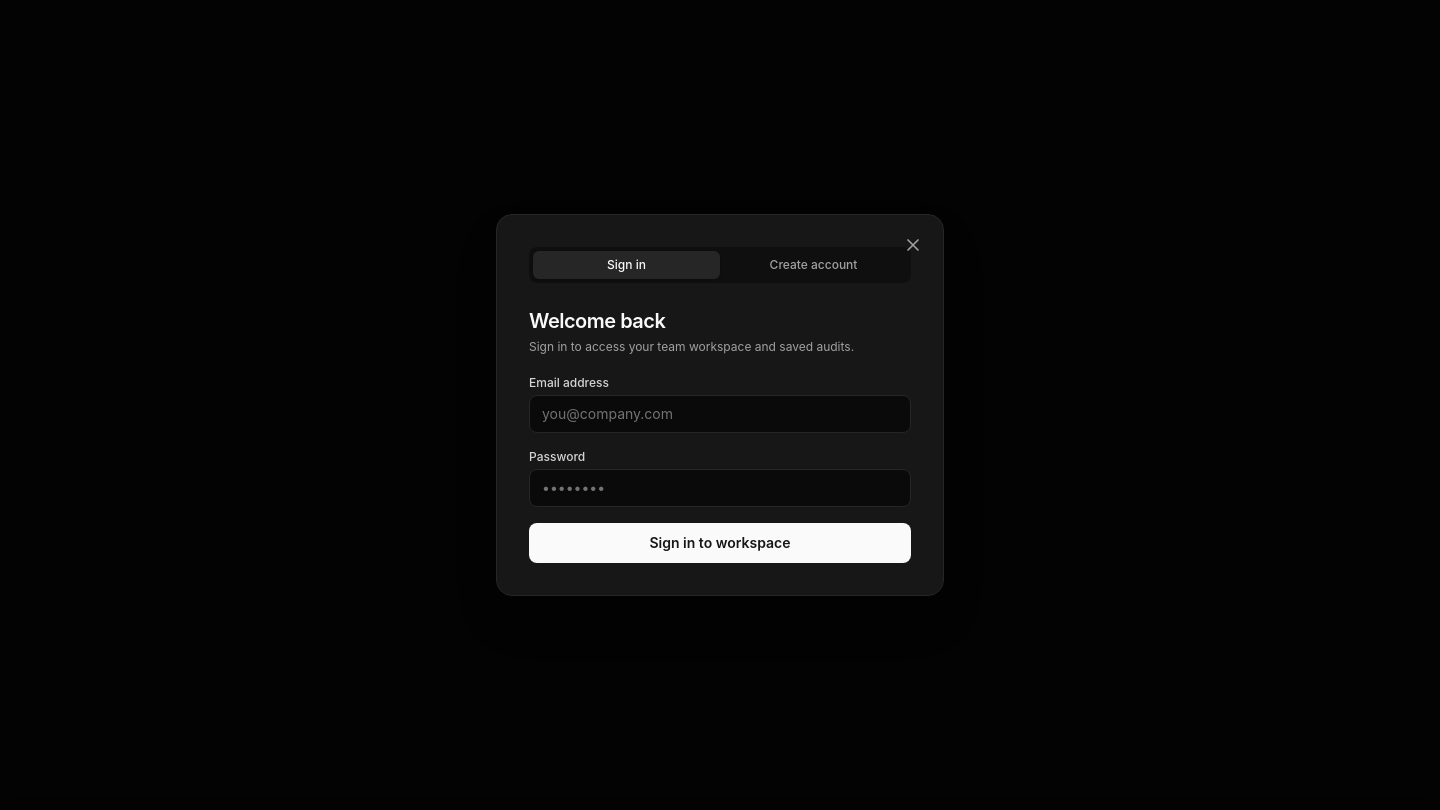
Scenario: Auth Configuration in UI › shows 'Authentication is not configured.' error when env vars are missing and user submits modal
Type "user@example.com" into the field labelled "Email address" at [720, 414], box left=529, top=395, right=911, bottom=433
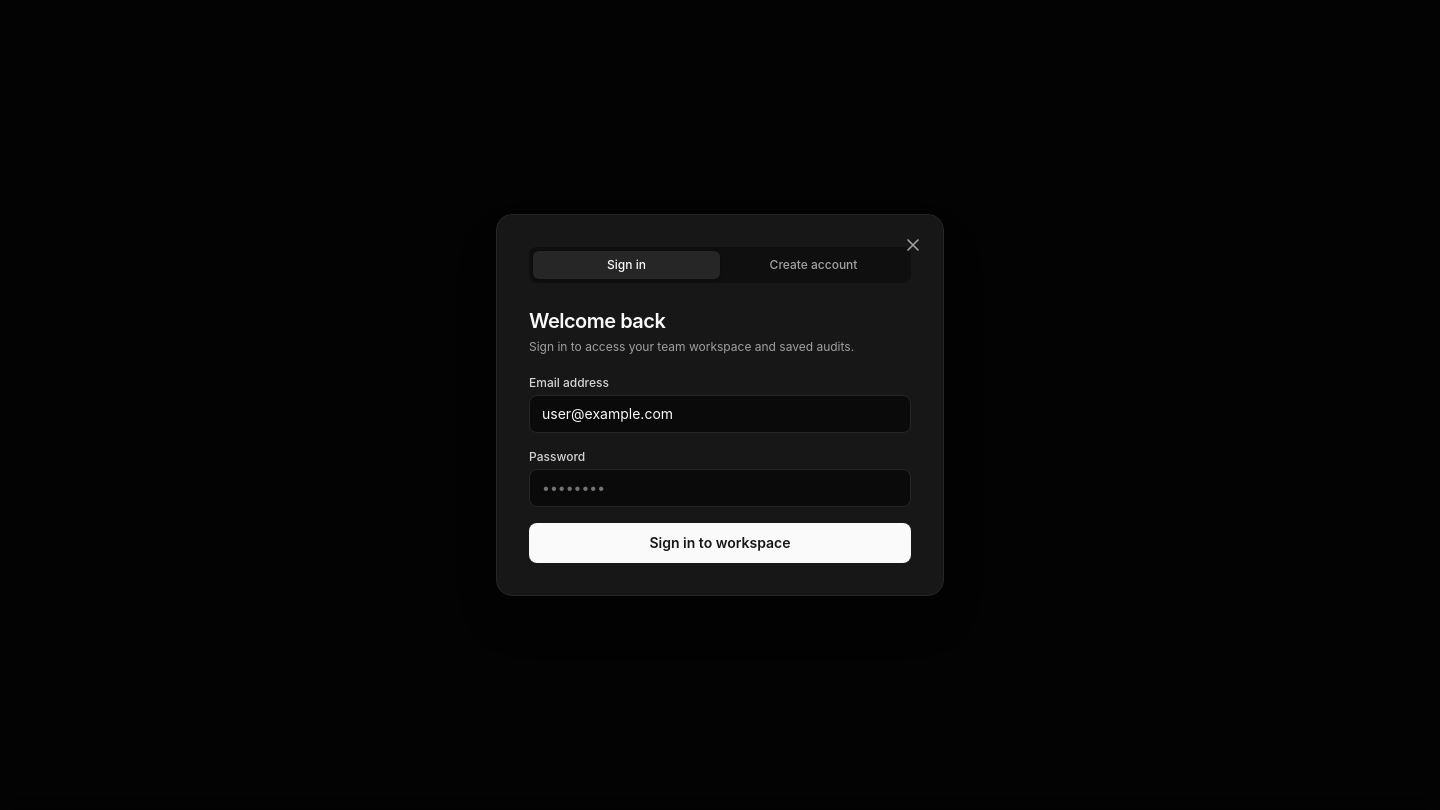
Type "password123" into the password field labelled "Password" at [720, 488], box left=529, top=469, right=911, bottom=507
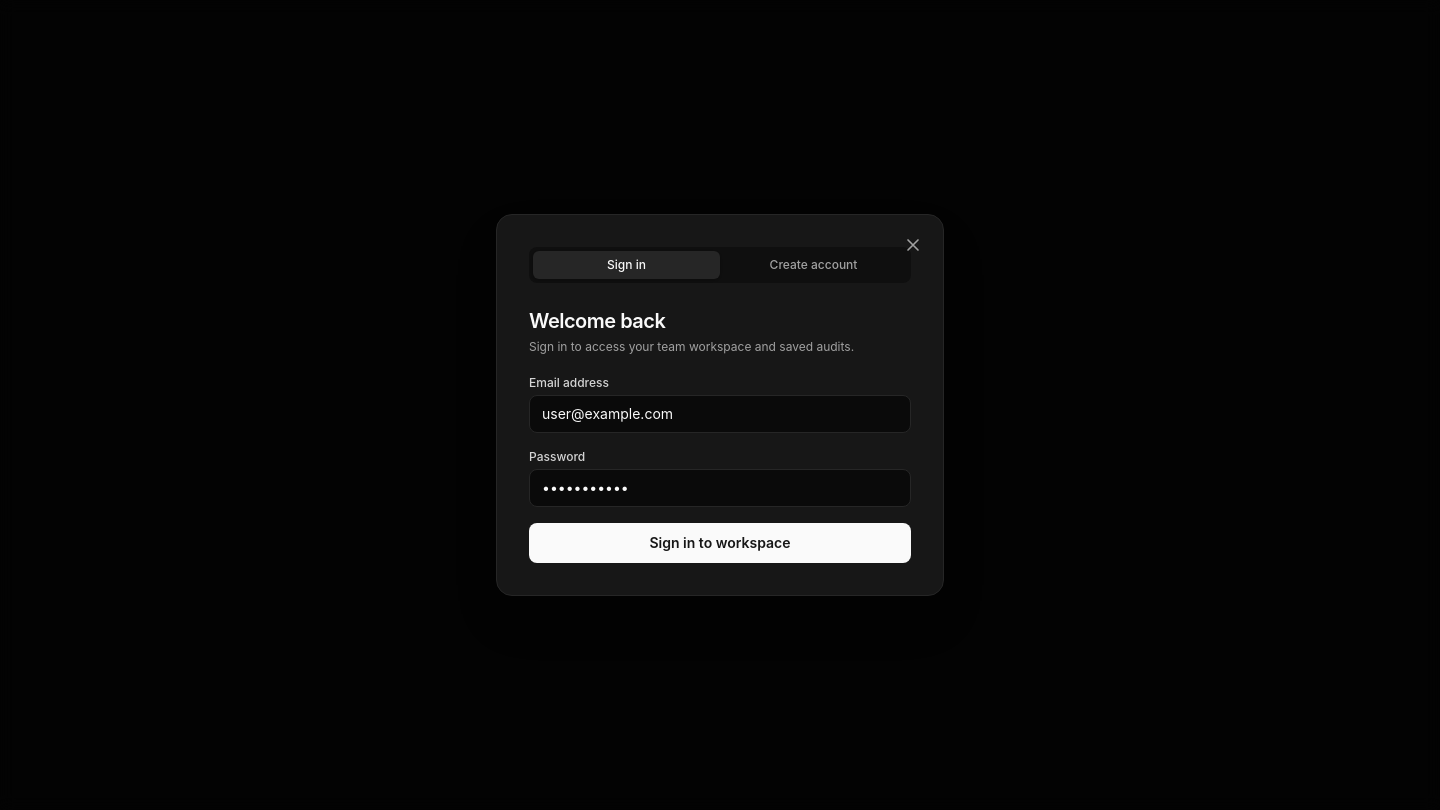
Click the button "Sign in to workspace" at [720, 543], box left=529, top=523, right=911, bottom=563
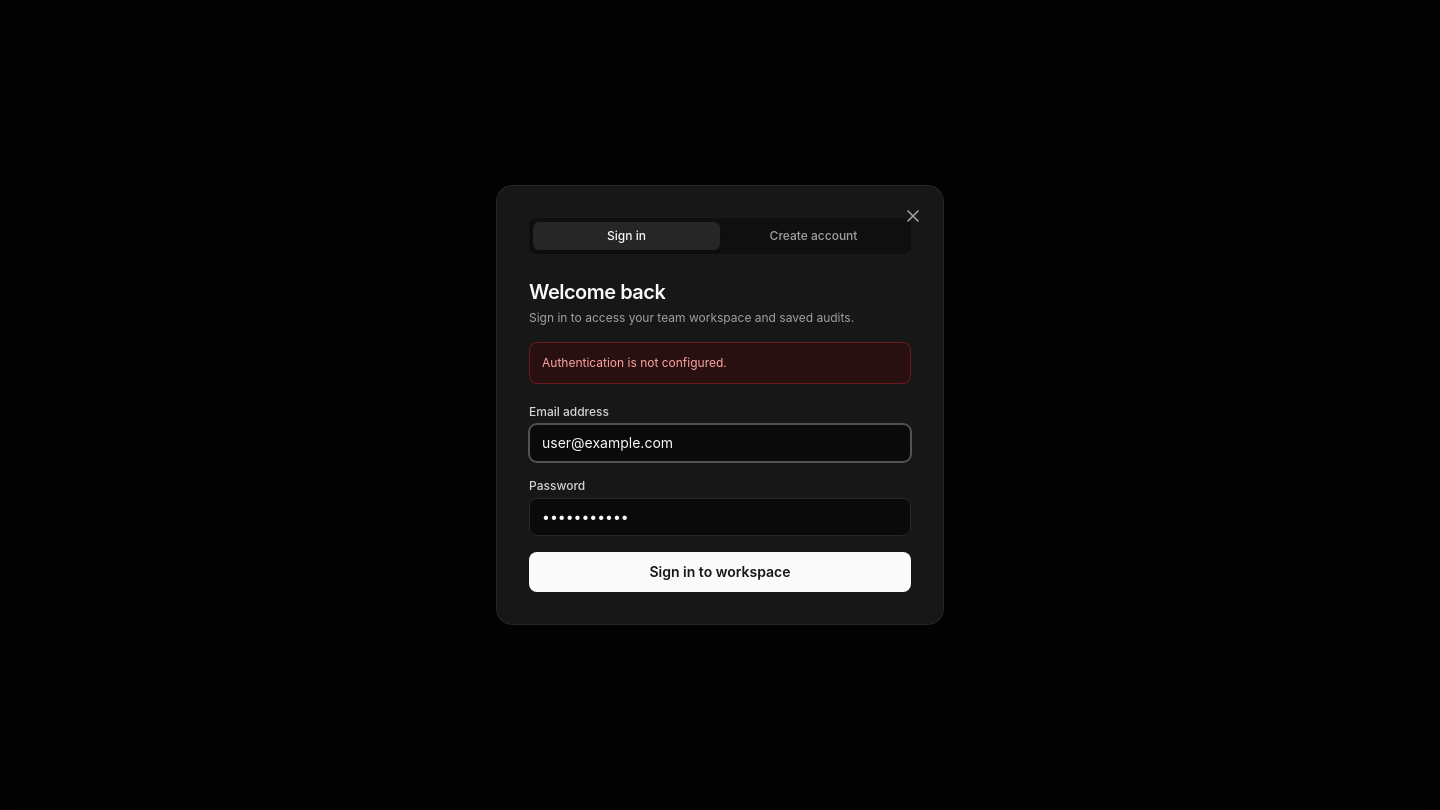
Expected: the message reads "Authentication is not configured.", left=542, top=355, right=727, bottom=370
